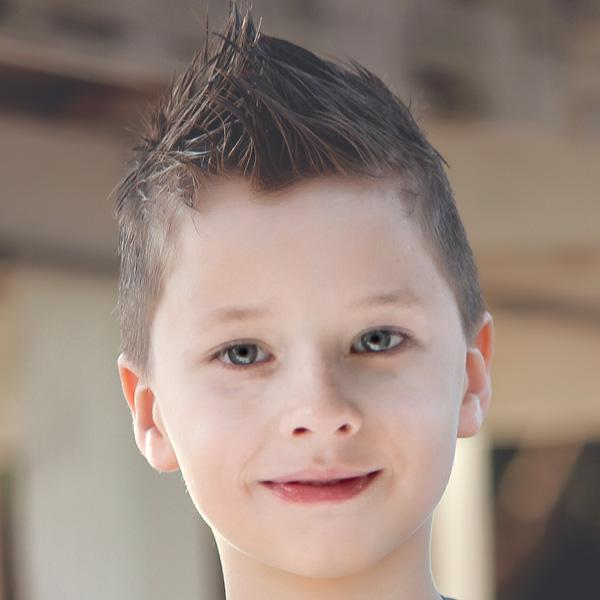Eyes: (198, 332, 282, 382), (341, 316, 425, 364)
